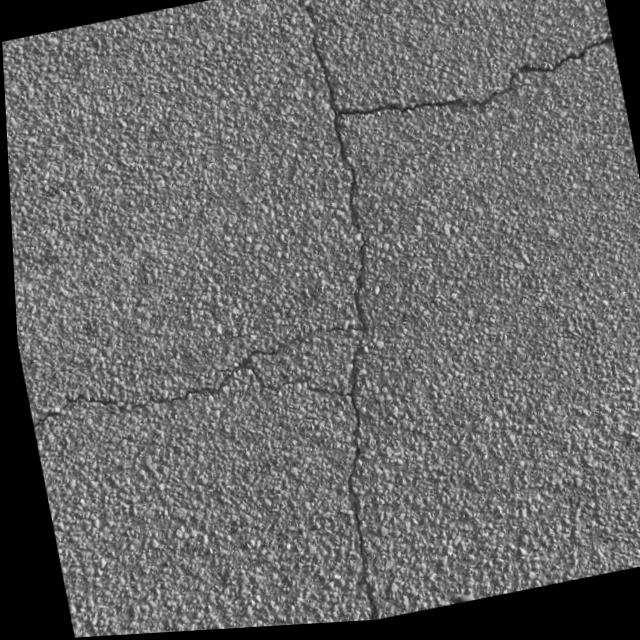Crack: (239, 0, 443, 629), (17, 312, 323, 446), (332, 34, 623, 152)
